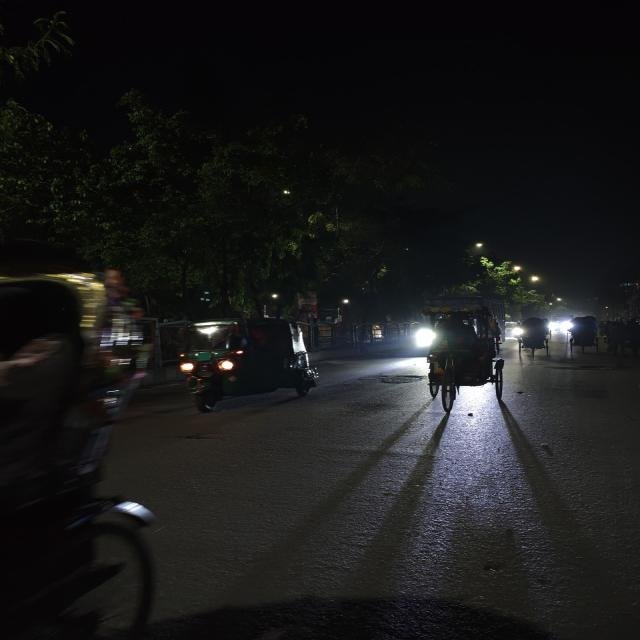cng: (158, 298, 323, 409)
rickshaw: (414, 298, 506, 408), (513, 314, 555, 367), (562, 312, 605, 357)
